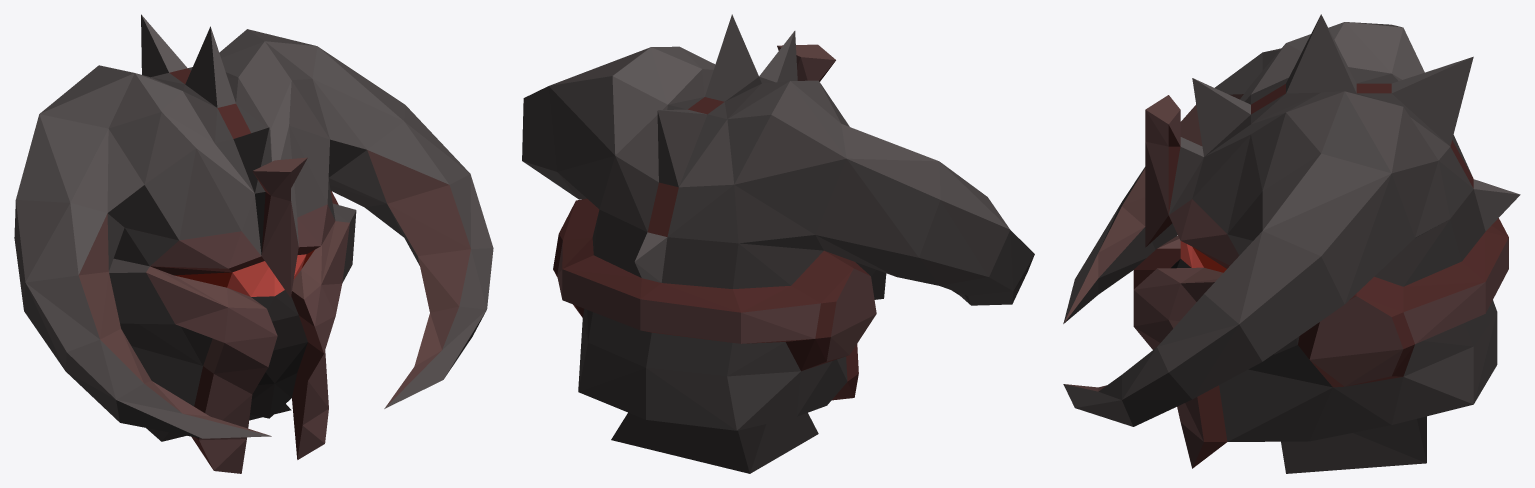
Rendered from male_Tzkal_slayerhelmet-v3.glb.
3 renders of one model, left to right at view 1: azimuth 30°, elevation 25°; view 2: azimuth 150°, elevation 25°; view 3: azimuth 270°, elevation 25°, orthographic. The views are drawn at different scales.
Bounding box in the file's own units: 47.99 × 41 × 39.
Materials: 1 (1 with a texture image).
